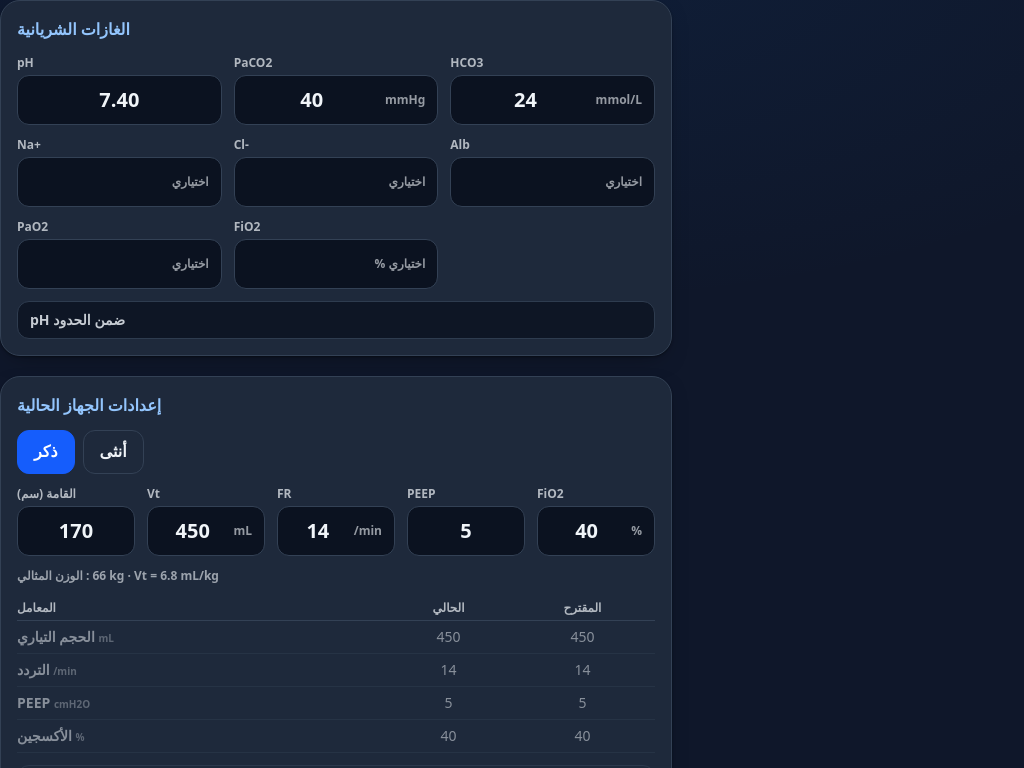
AbgVent › يفسر حماضاً تنفسياً
The width and height of the screenshot is (1024, 768).
Replace the text in the number field labelled "pH" with "7.25": (119, 100) [30,86,209,114]
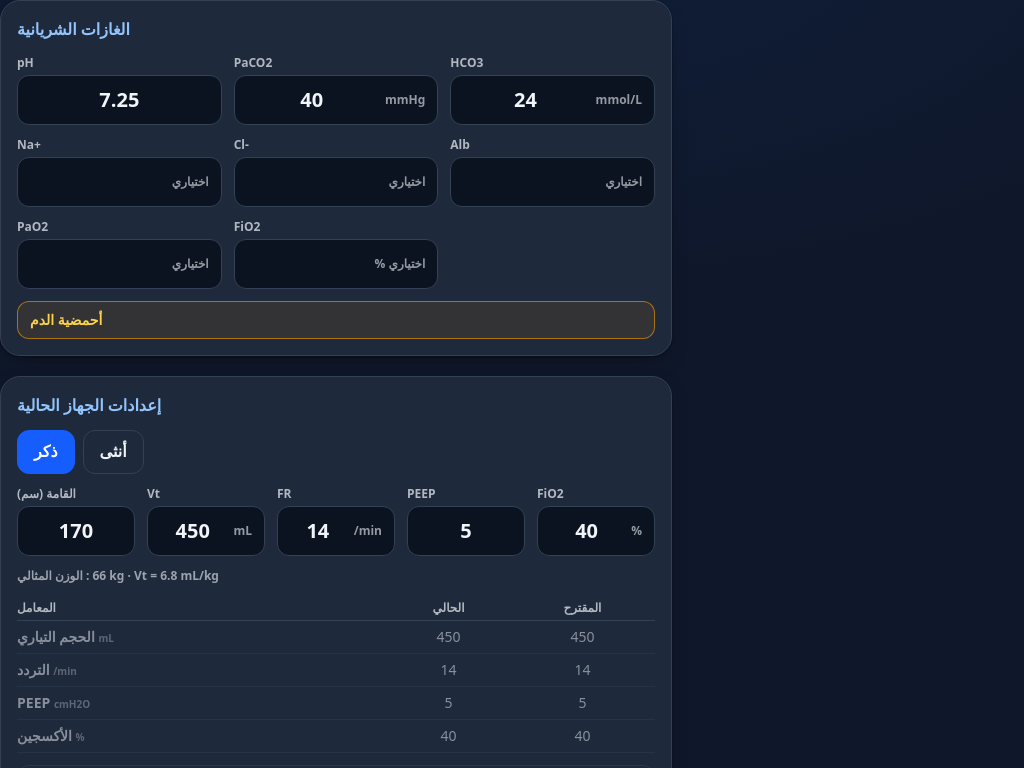
Replace the text in the number field labelled "PaCO2 mmHg" with "60": (312, 100) [247,86,377,114]
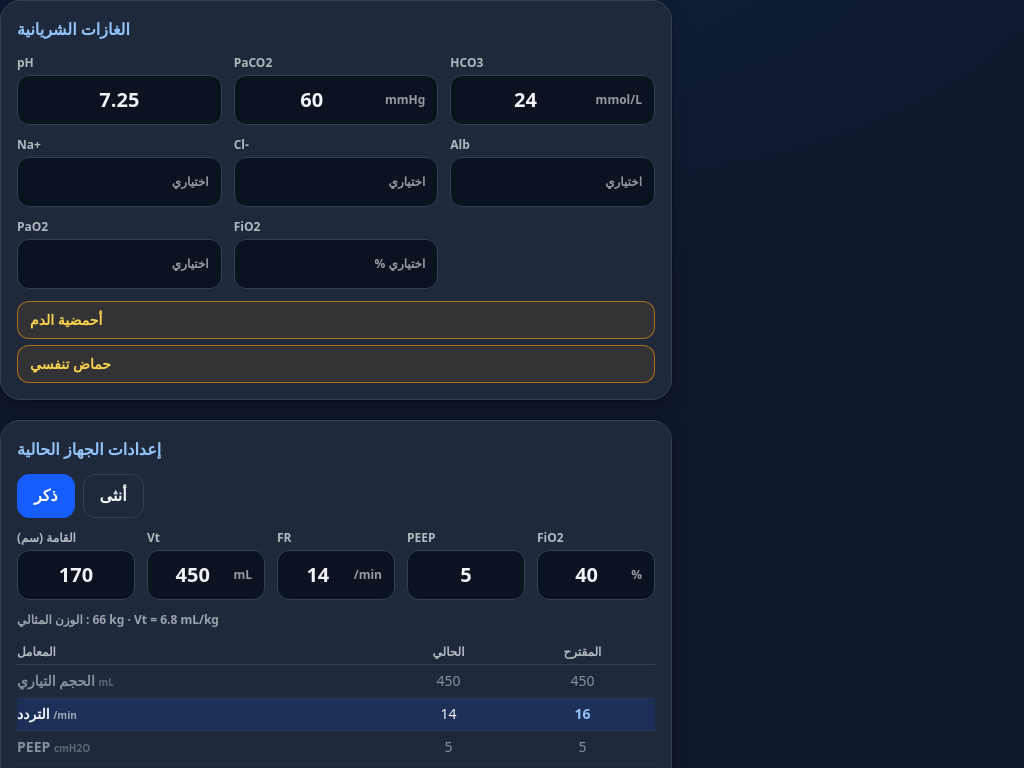
Expected: the list item "حماض تنفسي" is shown, [17,345,655,383]
